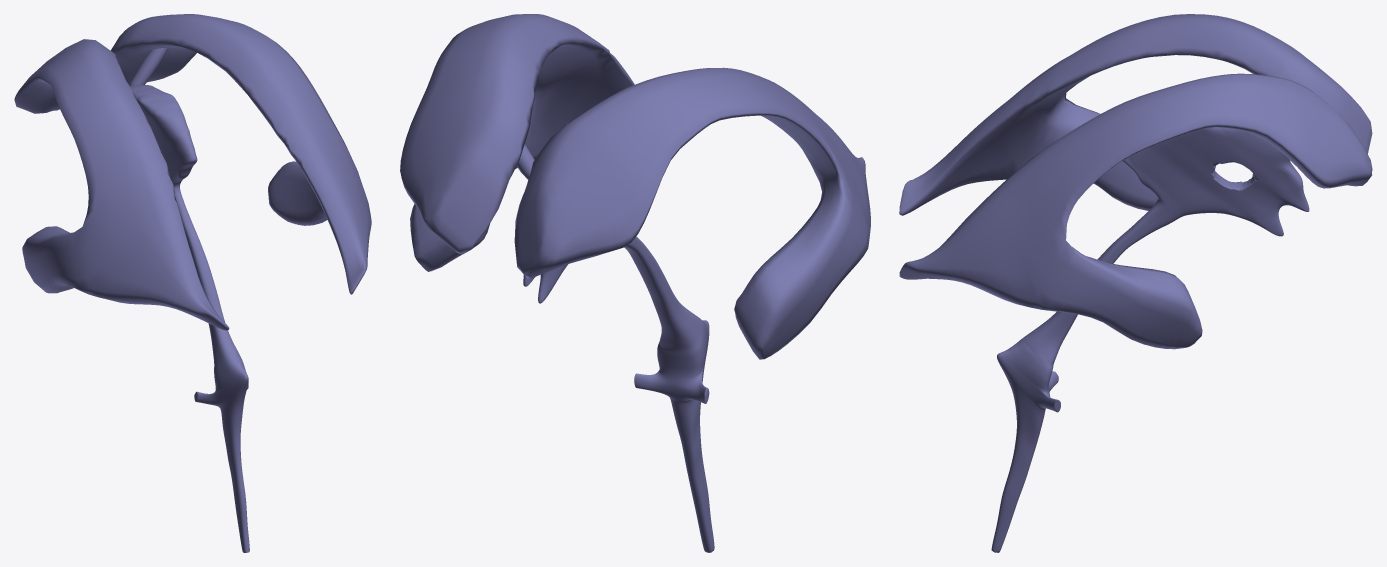
Rendered from cerebral-ventricles.glb.
3 views of the same model, side by side, from view 1: azimuth 30°, elevation 25°; view 2: azimuth 150°, elevation 25°; view 3: azimuth 270°, elevation 25° (orthographic). The views are drawn at different scales.
Parts seen in each view (by area): view 1: Ventricles:h4, Ventricles:polySurface22, Ventricles:polySurface23, Ventricles:polySurface21; view 2: Ventricles:h4, Ventricles:polySurface22, Ventricles:polySurface23; view 3: Ventricles:polySurface22, Ventricles:h4, Ventricles:polySurface23.
Boxes of the visible parts, bbox=[...] form: Ventricles:h4: bbox=[14, 39, 229, 330]; Ventricles:polySurface22: bbox=[111, 14, 371, 294]; Ventricles:polySurface23: bbox=[130, 85, 249, 552]; Ventricles:polySurface21: bbox=[129, 48, 168, 85]; Ventricles:h4: bbox=[514, 67, 870, 359]; Ventricles:polySurface22: bbox=[400, 14, 634, 271]; Ventricles:polySurface23: bbox=[523, 123, 714, 552]; Ventricles:polySurface22: bbox=[899, 73, 1372, 349]; Ventricles:h4: bbox=[899, 14, 1372, 215]; Ventricles:polySurface23: bbox=[991, 127, 1309, 552].
Bounding box in the file's own units: 13.32 × 19.1 × 16.15.
